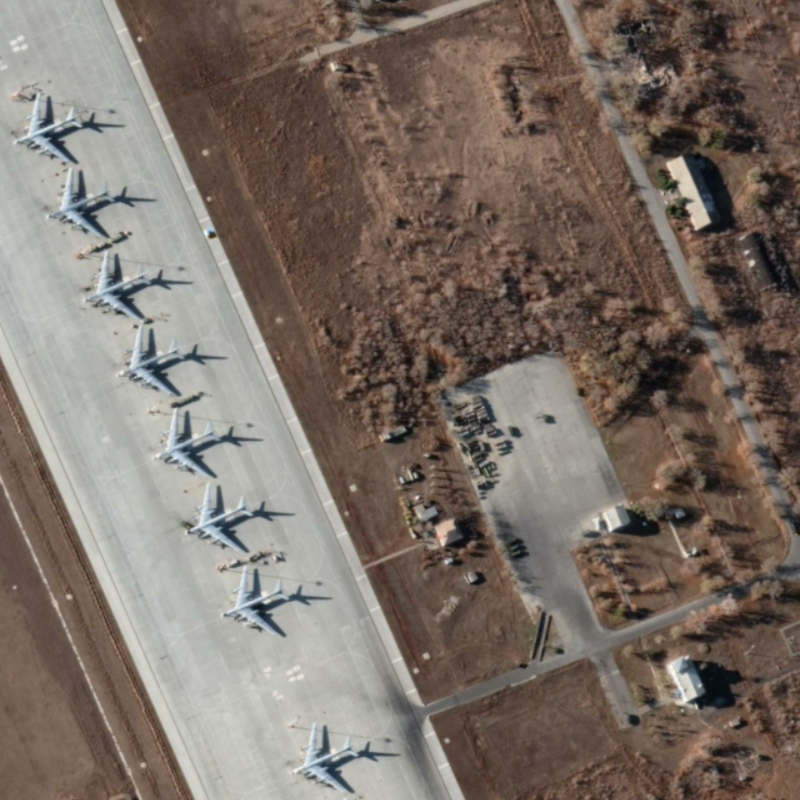A17: (113, 320, 194, 400), (214, 560, 295, 639), (11, 87, 89, 165), (40, 164, 120, 240), (81, 249, 158, 323), (180, 480, 258, 553), (149, 403, 223, 478), (287, 721, 362, 793)
